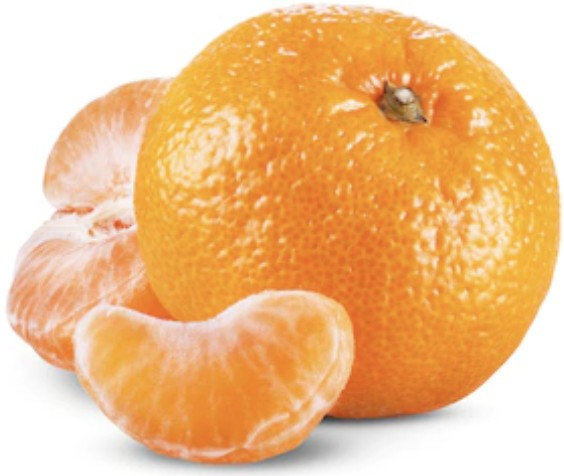fresh_orange: (135, 1, 563, 423)
